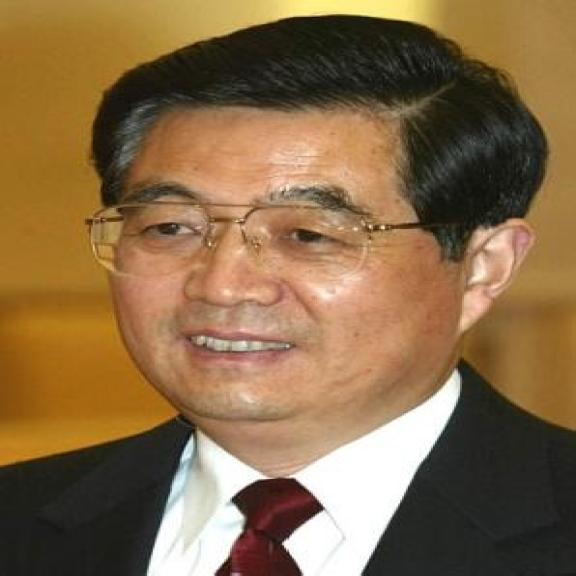face: (102, 106, 539, 421)
